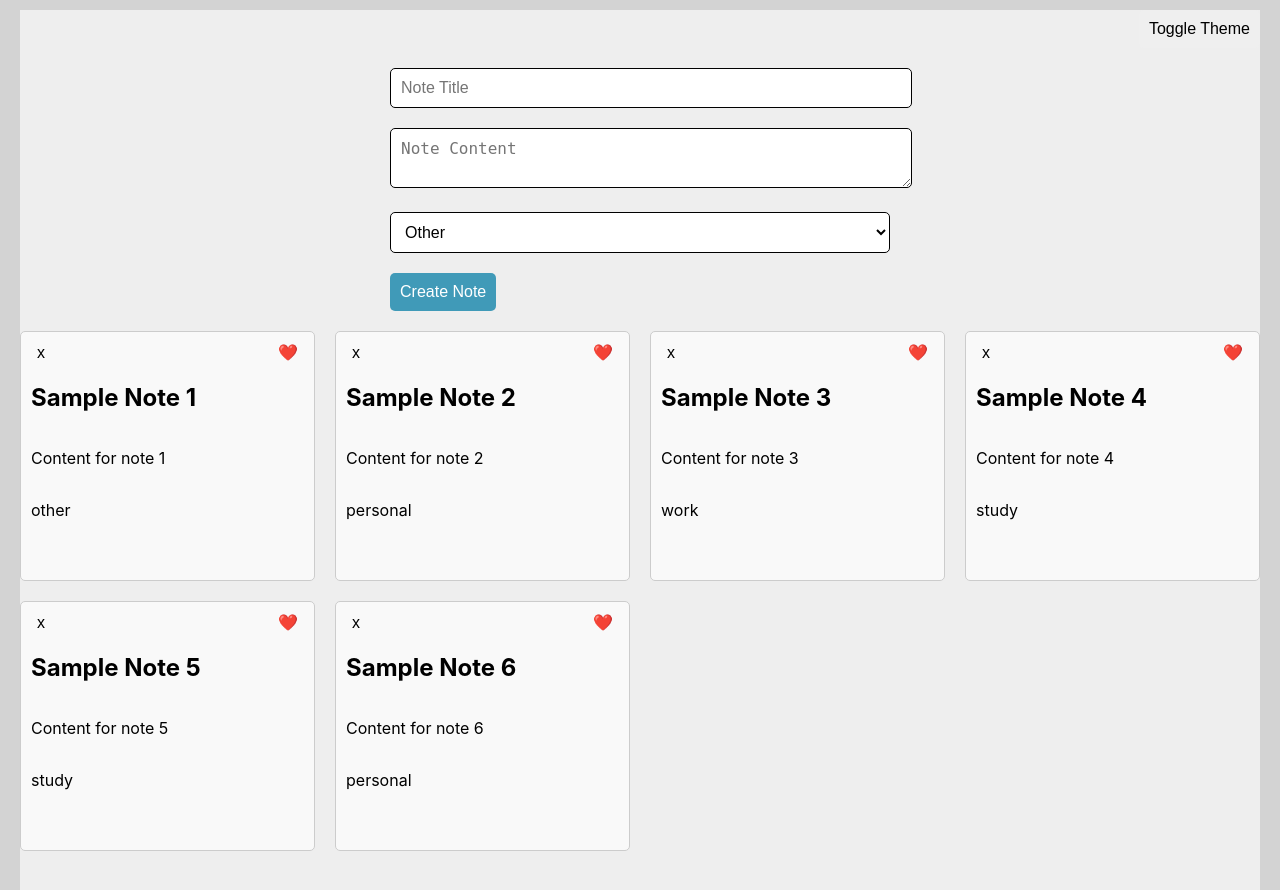
StickyNotes Component › displays favorite notes in the favorites section
Expected: the text "Sample Note 3" is shown, [661,383,831,412]
Click the 3rd button "❤️": [918, 352] box [902,342,934,363]
(page scrolled)
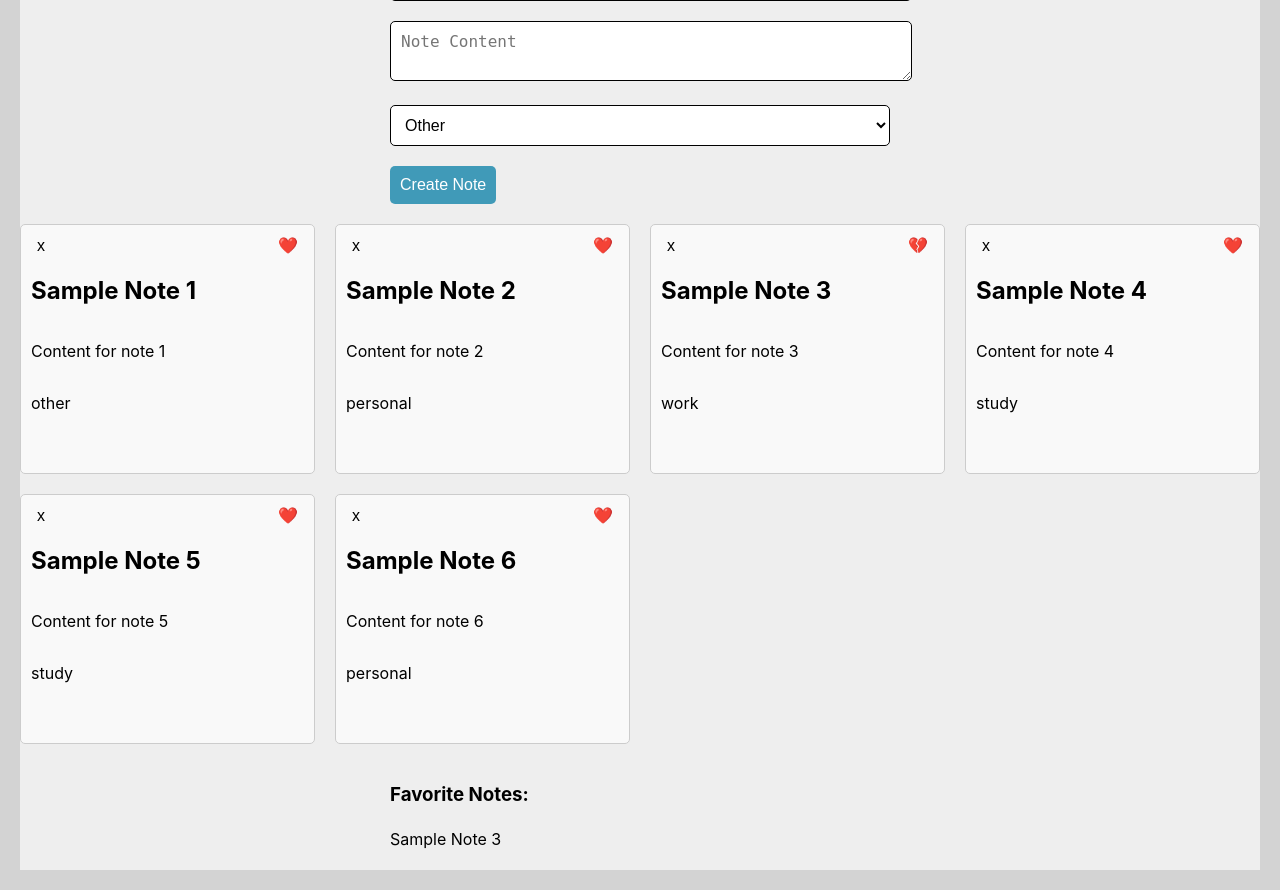
Expected: the list item "Sample Note 3" is shown, [390,829,501,849]
